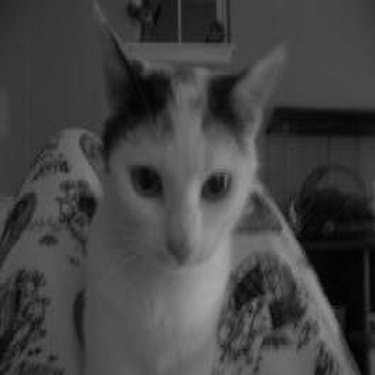cat: (2, 31, 352, 371)
